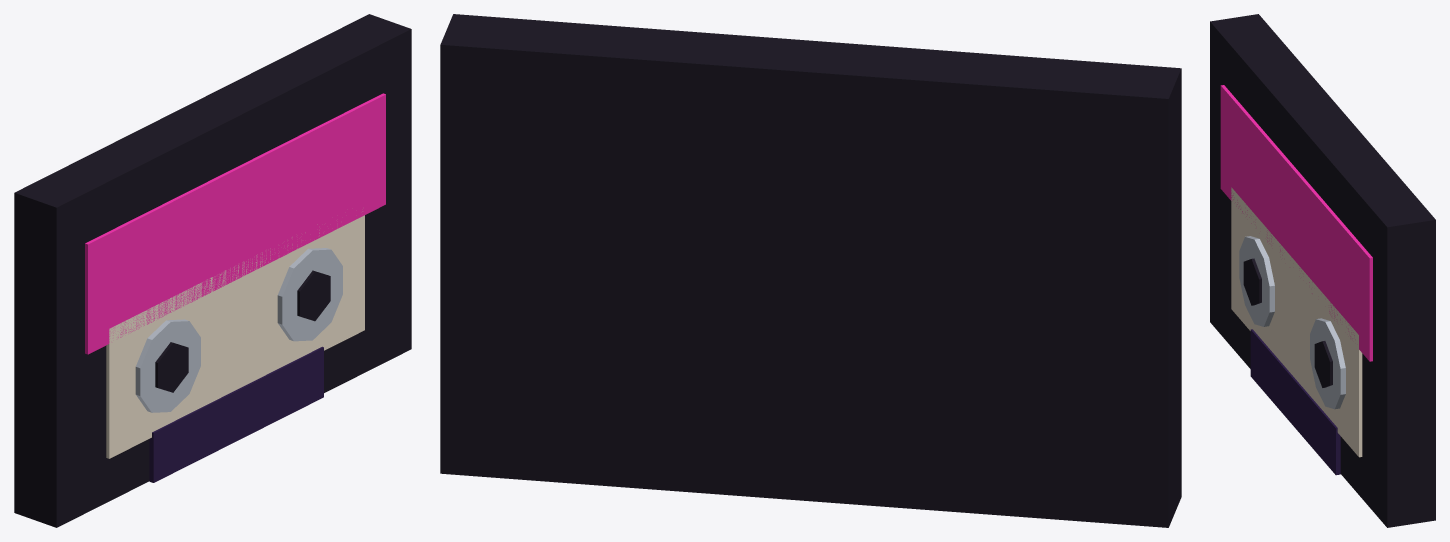
Rendered from GiantCassette.fbx.
The picture shows the model from 3 angles, left to right: view 1: azimuth 30°, elevation 25°; view 2: azimuth 150°, elevation 25°; view 3: azimuth 270°, elevation 25°; orthographic projection. The views are drawn at different scales.
Parts seen in each view (by area): view 1: GiantCassette, GiantCassette_Glow; view 2: GiantCassette; view 3: GiantCassette, GiantCassette_Glow.
Boxes of the visible parts, x1,y1,x2,y2 form: GiantCassette: (14,14,411,527); GiantCassette_Glow: (85,93,385,354); GiantCassette: (440,14,1181,527); GiantCassette: (1210,14,1435,527); GiantCassette_Glow: (1220,85,1372,361).
Size of the model in its own units: 487 by 320 by 218.
Materials: 1 (1 with a texture image).
